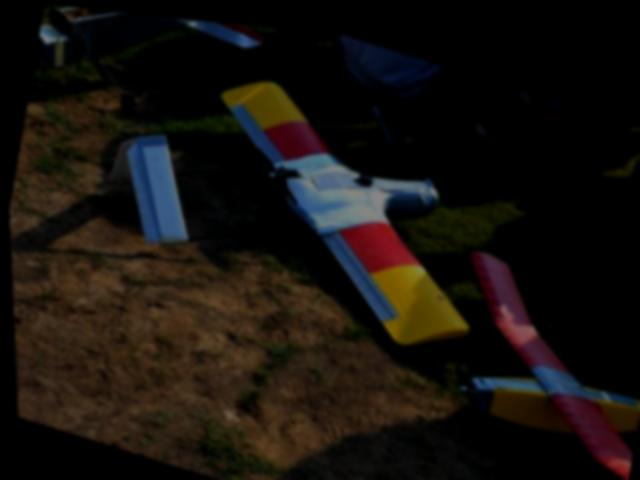iha: (429, 250, 640, 480)
